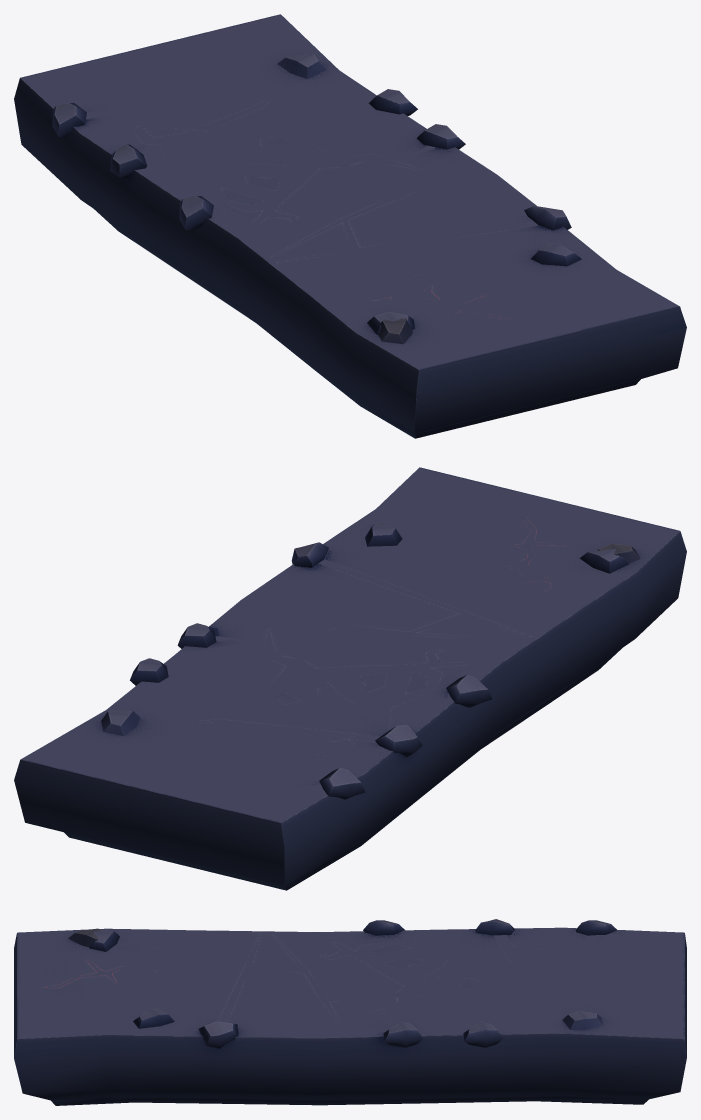
The model's file is Magma_Stage_Roadr.fbx.
3 views of the same model, one above another, from view 1: azimuth 30°, elevation 25°; view 2: azimuth 150°, elevation 25°; view 3: azimuth 270°, elevation 25° (orthographic). The views are drawn at different scales.
Parts seen in each view (by area): view 1: Magma_Stage_Road_1, Magma_Stage_Road_2, Magma_Stage_Road_3; view 2: Magma_Stage_Road_1, Magma_Stage_Road_2, Magma_Stage_Road_3; view 3: Magma_Stage_Road_1, Magma_Stage_Road_2, Magma_Stage_Road_3.
Boxes of the visible parts, x1,y1,x2,y2 form: Magma_Stage_Road_1: [14, 14, 686, 438]; Magma_Stage_Road_2: [21, 14, 677, 369]; Magma_Stage_Road_3: [21, 15, 678, 369]; Magma_Stage_Road_1: [14, 467, 686, 890]; Magma_Stage_Road_2: [22, 467, 677, 822]; Magma_Stage_Road_3: [23, 468, 679, 821]; Magma_Stage_Road_1: [14, 919, 686, 1105]; Magma_Stage_Road_2: [17, 920, 684, 1057]; Magma_Stage_Road_3: [17, 920, 684, 1047].
Size of the model in its own units: 251 by 86.16 by 603.
Materials: 3 (3 with a texture image).
